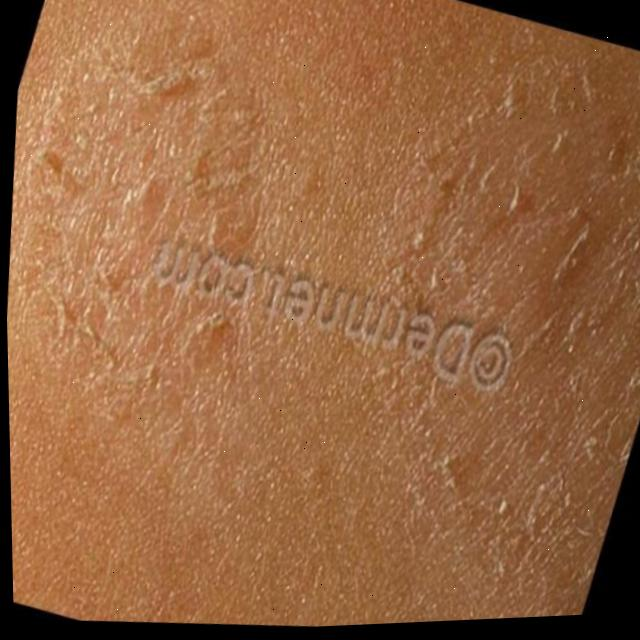Eczema: (10, 2, 640, 637)
